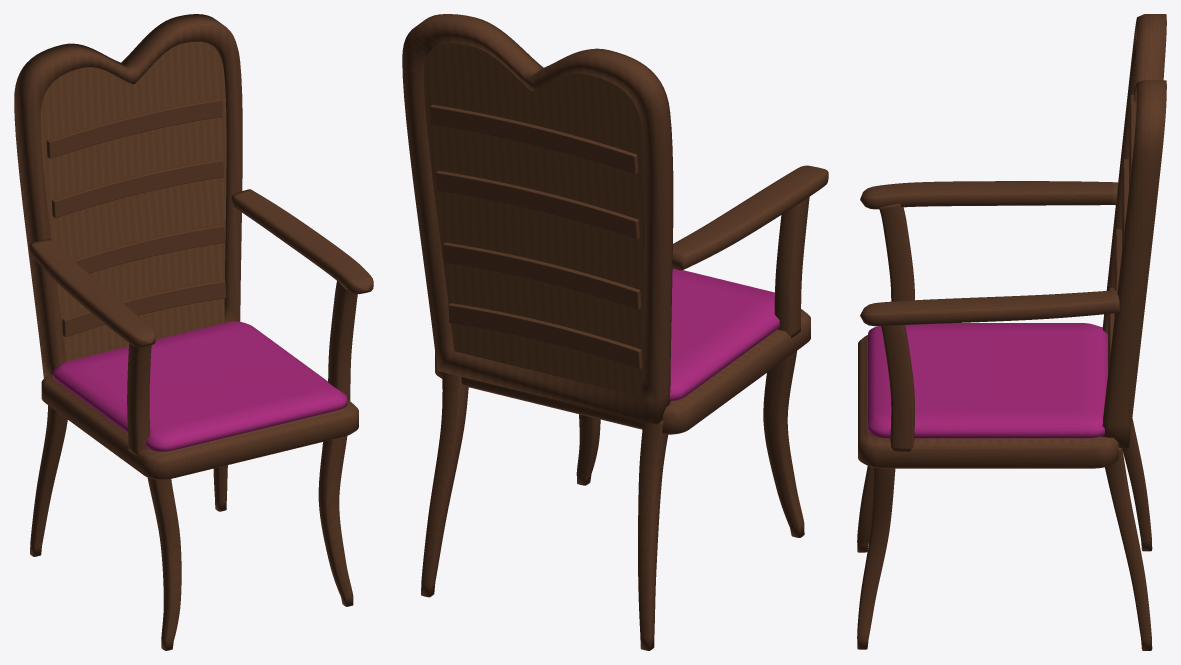
Rendered from DiningChair_FUR01.fbx.
The picture shows the model from 3 angles, left to right: view 1: azimuth 30°, elevation 25°; view 2: azimuth 150°, elevation 25°; view 3: azimuth 270°, elevation 25°; orthographic projection. The views are drawn at different scales.
Visible parts, largest first — view 1: DiningChair; view 2: DiningChair; view 3: DiningChair.
Boxes of the visible parts, <box> form: DiningChair: <box>14,14,373,650</box>; DiningChair: <box>402,14,828,650</box>; DiningChair: <box>857,14,1166,650</box>.
Size of the model in its own units: 0.5347 by 1.03 by 0.5312.
3 materials, 3 textured.
